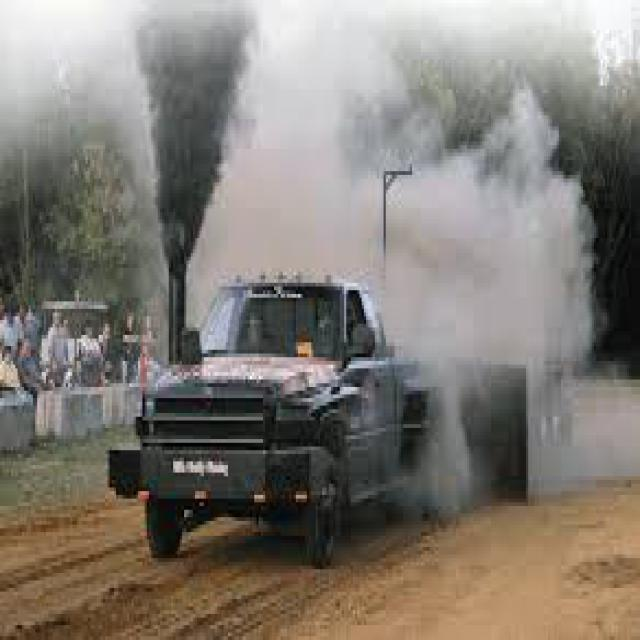smoke: (364, 78, 600, 424), (142, 3, 239, 272)
